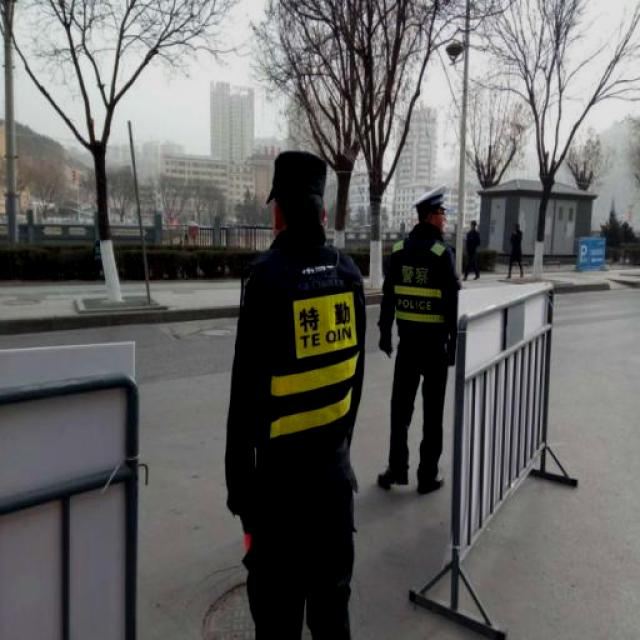head_nohelmet: (259, 144, 335, 217), (412, 177, 452, 221)
person: (217, 147, 371, 640), (367, 181, 457, 503)
shoes: (373, 461, 413, 491), (414, 469, 447, 500)
vest: (257, 252, 358, 470), (385, 232, 455, 367)
